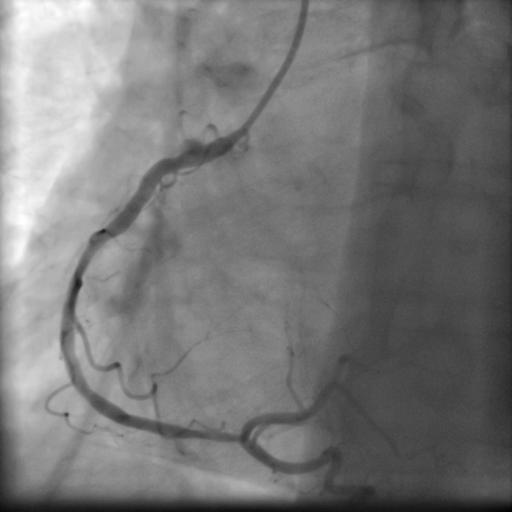Stenosis: (175, 421, 243, 448)
